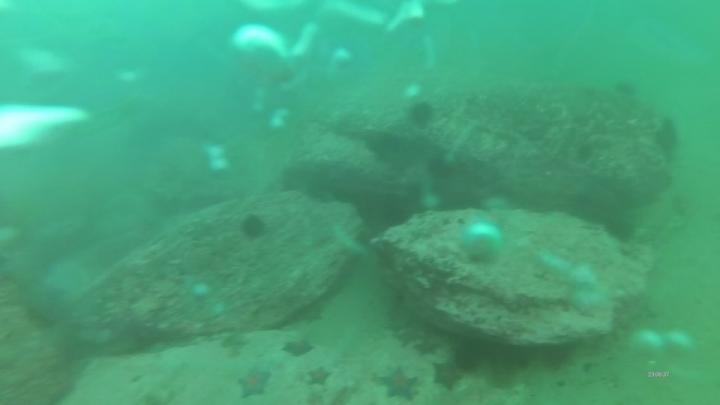echinus: (241, 215, 272, 242), (409, 102, 436, 128)
starfish: (381, 368, 423, 403), (236, 366, 274, 400), (431, 361, 464, 393), (281, 337, 317, 360), (307, 365, 332, 388)
